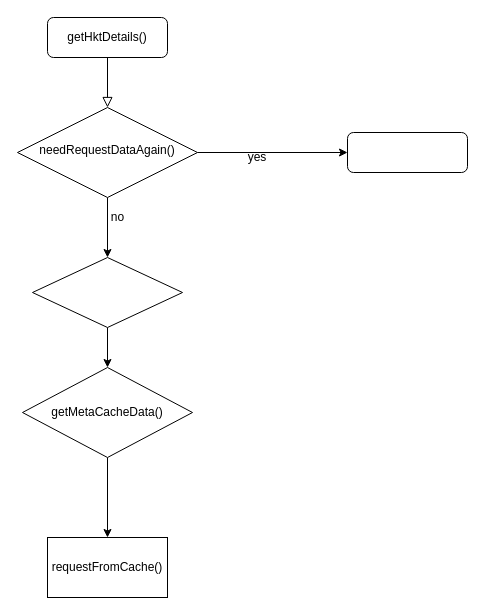
The diagram is 485 pixels wide and 615 high, and some of its shapes have lost their labels. The box of each missing label's shape, as (x1, y1, x2, y2) in pixels:
getHktDetailData(): (32, 256, 182, 328)
请求数据return resultDict: (346, 132, 468, 172)
